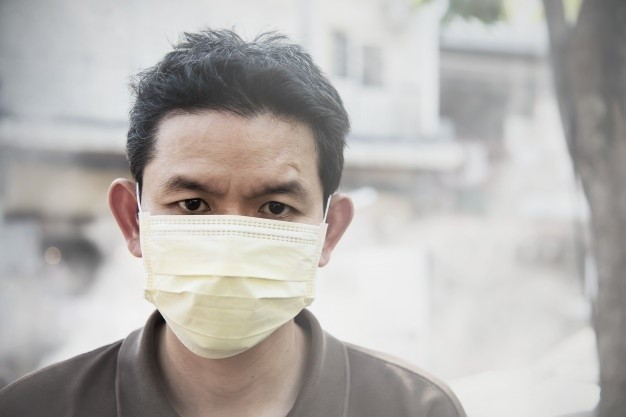face_with_mask: (103, 89, 359, 373)
